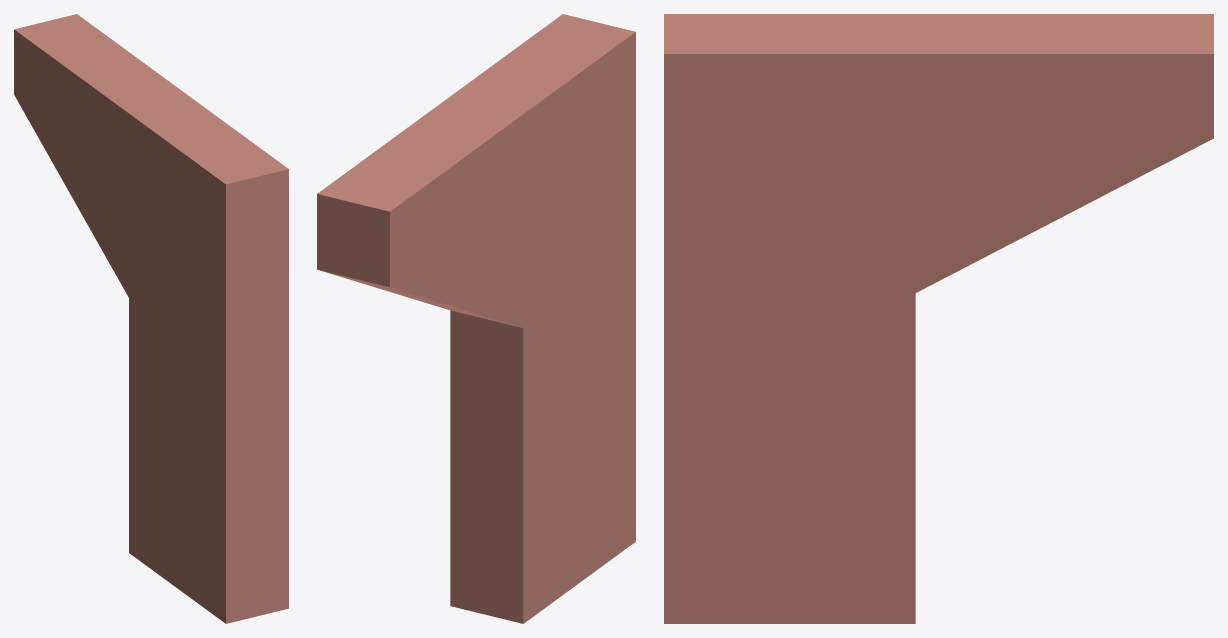
File: BasicSupport01Top.fbx
The picture shows the model from 3 angles, left to right: view 1: azimuth 30°, elevation 25°; view 2: azimuth 150°, elevation 25°; view 3: azimuth 270°, elevation 25°; orthographic projection. The views are drawn at different scales.
Parts seen in each view (by area): view 1: BasicSupport01Top.004; view 2: BasicSupport01Top.004; view 3: BasicSupport01Top.004.
Part boxes in pixels (bbox=[...]): BasicSupport01Top.004: bbox=[14, 14, 288, 623]; BasicSupport01Top.004: bbox=[317, 14, 635, 623]; BasicSupport01Top.004: bbox=[664, 14, 1213, 623].
Bounding box in the file's own units: 75 × 500 × 437.
